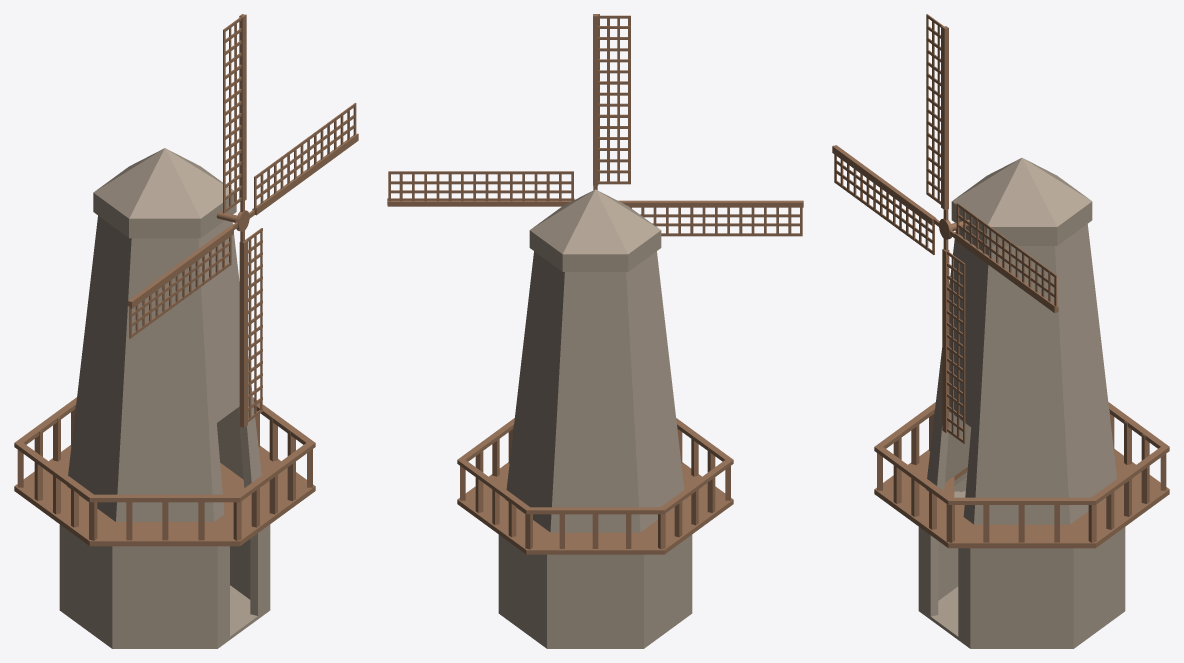
File: windmill.fbx
The picture shows the model from 3 angles, left to right: view 1: azimuth 30°, elevation 25°; view 2: azimuth 150°, elevation 25°; view 3: azimuth 270°, elevation 25°; orthographic projection. The views are drawn at different scales.
Visible parts, largest first — view 1: windmill_wall, blades, handrail, ground; view 2: windmill_wall, blades, handrail, ground; view 3: windmill_wall, blades, handrail, ground.
Part boxes in pixels (<box>): windmill_wall: <box>59,148,270,648</box>; blades: <box>127,14,358,427</box>; handrail: <box>14,397,315,540</box>; ground: <box>14,445,315,546</box>; windmill_wall: <box>498,189,692,648</box>; blades: <box>387,14,803,236</box>; handrail: <box>457,418,733,549</box>; ground: <box>457,462,733,554</box>; windmill_wall: <box>918,158,1125,648</box>; blades: <box>832,14,1058,443</box>; handrail: <box>874,402,1169,542</box>; ground: <box>874,449,1169,548</box>.
Bounding box in the file's own units: 897 × 1539 × 782.
